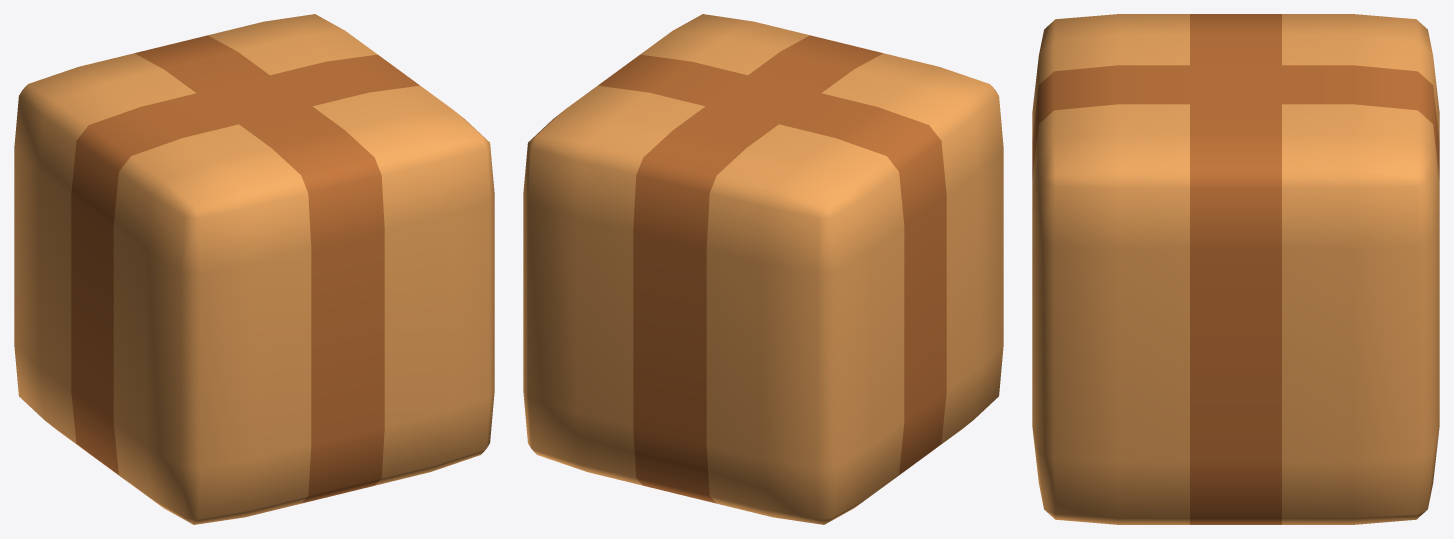
File: Cargo_Box_01a.fbx
3 renders of one model, left to right at view 1: azimuth 30°, elevation 25°; view 2: azimuth 150°, elevation 25°; view 3: azimuth 270°, elevation 25°, orthographic. The views are drawn at different scales.
Visible parts, largest first — view 1: Cargo_Box_01a; view 2: Cargo_Box_01a; view 3: Cargo_Box_01a.
Part boxes in pixels (box(x1,y1,x2,y2)): Cargo_Box_01a: box(14, 14, 494, 524); Cargo_Box_01a: box(523, 14, 1003, 524); Cargo_Box_01a: box(1032, 14, 1439, 524).
Size of the model in its own units: 87.58 by 87.58 by 87.58.
